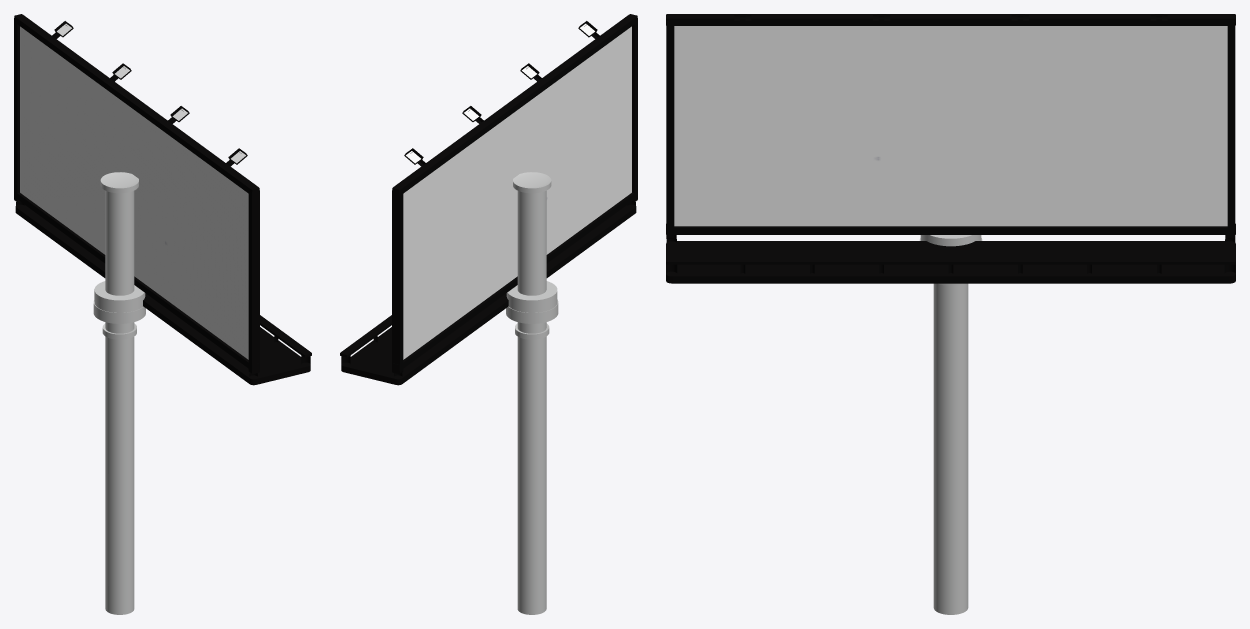
Rendered from billboard.glb.
The picture shows the model from 3 angles, left to right: view 1: azimuth 30°, elevation 25°; view 2: azimuth 150°, elevation 25°; view 3: azimuth 270°, elevation 25°; orthographic projection. The views are drawn at different scales.
Parts seen in each view (by area): view 1: Cube.005, Cube.001, Cylinder, Cube.009; view 2: Cube.005, Cube.001, Cylinder, Cube.009; view 3: Cube.005, Cube.001, Cylinder.
Part boxes in pixels (<box>): Cube.005: <box>20,26,248,359</box>; Cube.001: <box>14,14,311,385</box>; Cylinder: <box>93,172,145,614</box>; Cube.009: <box>57,23,245,163</box>; Cube.005: <box>403,26,631,359</box>; Cube.001: <box>340,14,637,385</box>; Cylinder: <box>506,172,558,614</box>; Cube.009: <box>406,23,594,163</box>; Cube.005: <box>674,26,1227,226</box>; Cube.001: <box>666,14,1235,283</box>; Cylinder: <box>919,235,982,614</box>.
Size of the model in its own units: 7.67 by 39.04 by 32.85.
4 materials, 4 textured.
